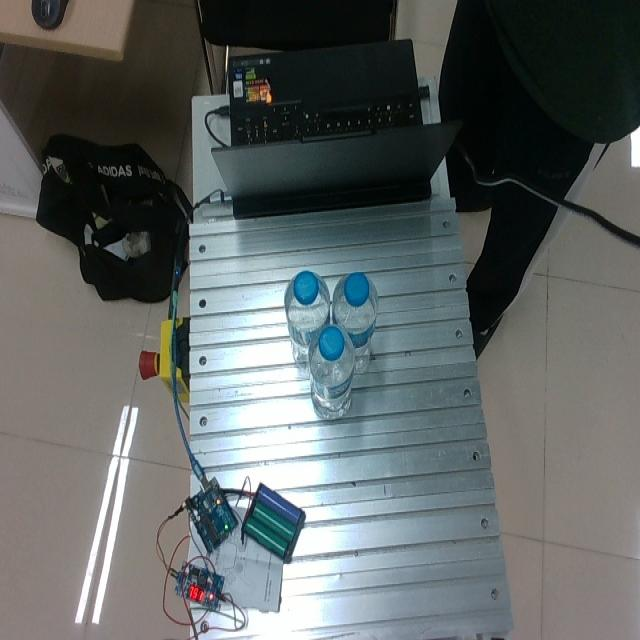lavie: (331, 271, 379, 373), (307, 322, 356, 418), (285, 271, 331, 372)
